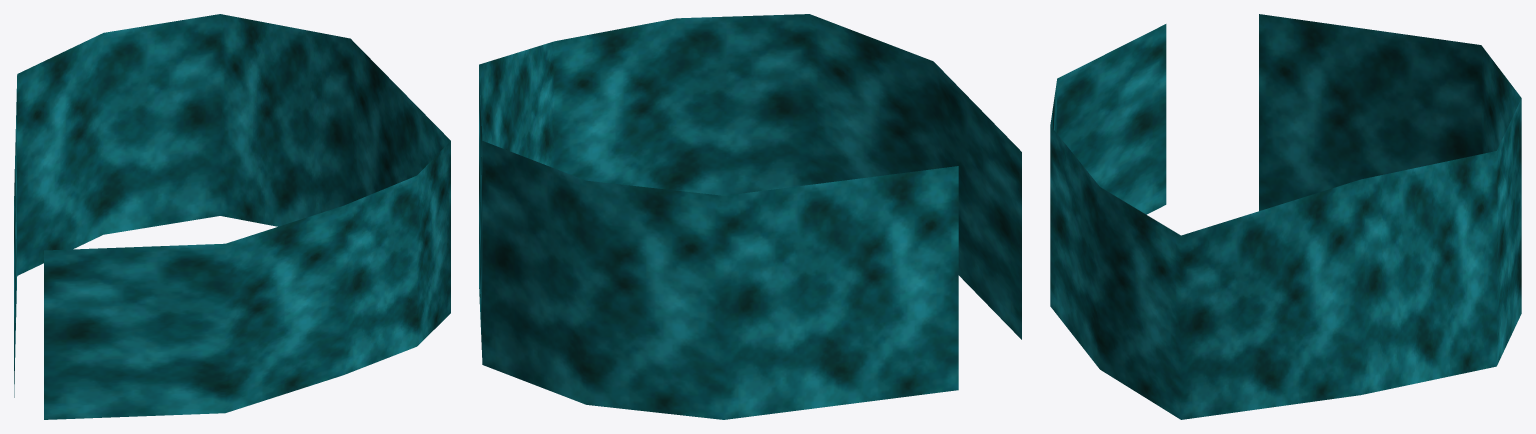
Rendered from MIRKWOOD_FOGI.fbx.
3 renders of one model, left to right at view 1: azimuth 30°, elevation 25°; view 2: azimuth 150°, elevation 25°; view 3: azimuth 270°, elevation 25°, orthographic. The views are drawn at different scales.
Parts seen in each view (by area): view 1: MIRKWOOD_FOGI; view 2: MIRKWOOD_FOGI; view 3: MIRKWOOD_FOGI.
Part boxes in pixels (<box>): MIRKWOOD_FOGI: <box>14,14,450,419</box>; MIRKWOOD_FOGI: <box>479,14,1021,419</box>; MIRKWOOD_FOGI: <box>1050,14,1521,419</box>.
Size of the model in its own units: 177874 by 96252 by 164201.
Materials: 1 (1 with a texture image).
